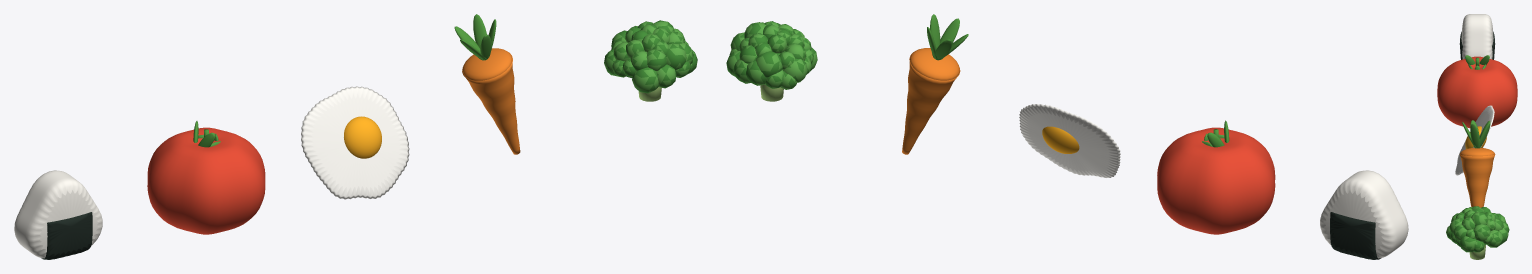
Rendered from foods.glb.
3 views of the same model, side by side, from view 1: azimuth 30°, elevation 25°; view 2: azimuth 150°, elevation 25°; view 3: azimuth 270°, elevation 25° (orthographic). The views are drawn at different scales.
Parts seen in each view (by area): view 1: Tomato, FriedEgg, Onigiri, Broccoli, Carrot; view 2: Tomato, Onigiri, Broccoli, FriedEgg, Carrot; view 3: Tomato, Broccoli, Carrot, Onigiri, FriedEgg.
Boxes of the visible parts, x1=… form: Tomato: x1=147, y1=121, x2=265, y2=234; FriedEgg: x1=301, y1=86, x2=409, y2=199; Onigiri: x1=14, y1=170, x2=102, y2=259; Broccoli: x1=604, y1=20, x2=697, y2=101; Carrot: x1=454, y1=14, x2=520, y2=154; Tomato: x1=1157, y1=120, x2=1275, y2=234; Onigiri: x1=1320, y1=170, x2=1408, y2=259; Broccoli: x1=726, y1=21, x2=817, y2=101; FriedEgg: x1=1019, y1=104, x2=1120, y2=177; Carrot: x1=902, y1=14, x2=968, y2=154; Tomato: x1=1437, y1=55, x2=1517, y2=128; Broccoli: x1=1446, y1=206, x2=1509, y2=259; Carrot: x1=1459, y1=120, x2=1495, y2=207; Onigiri: x1=1459, y1=14, x2=1495, y2=59; FriedEgg: x1=1455, y1=105, x2=1494, y2=175.
Size of the model in its own units: 6.33 by 1.29 by 0.9674.
